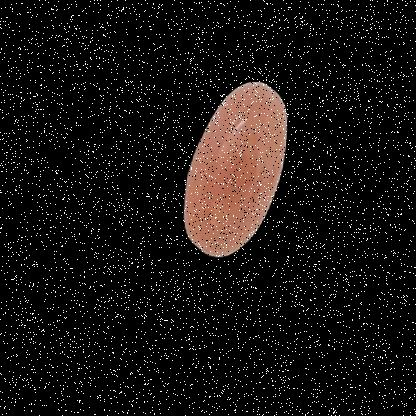opiqutan: (134, 63, 332, 287)
